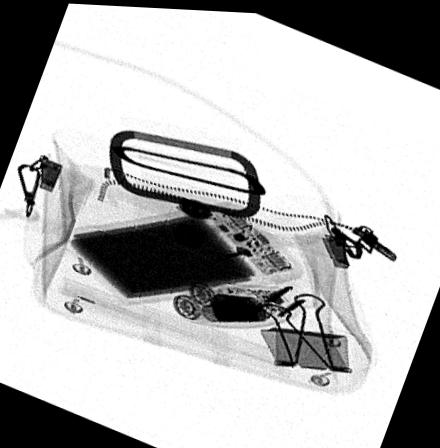Powerbank: (60, 196, 304, 302)
